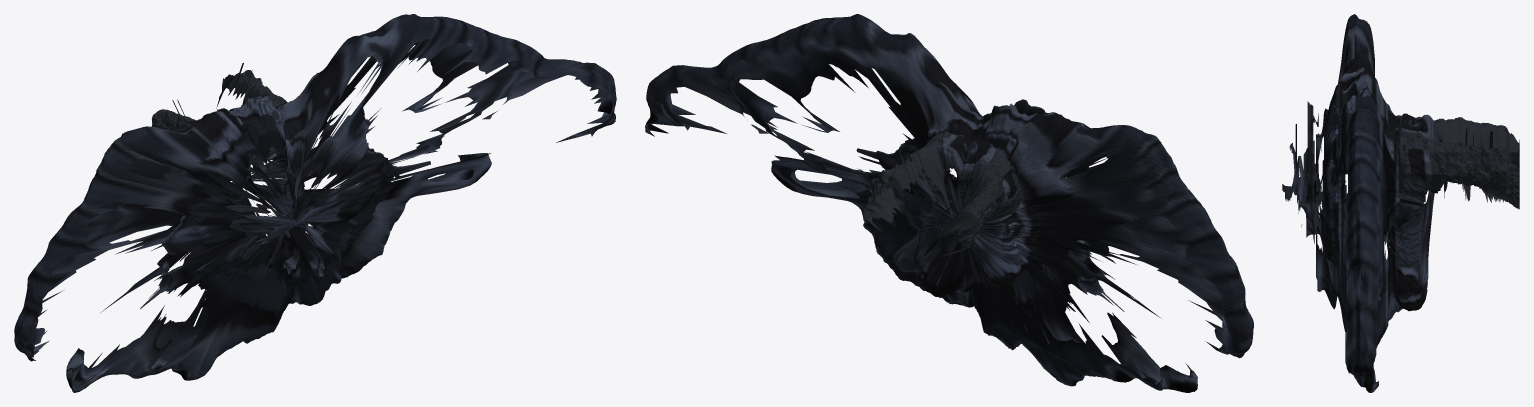
3 views of the same model, side by side, from view 1: azimuth 30°, elevation 25°; view 2: azimuth 150°, elevation 25°; view 3: azimuth 270°, elevation 25° (orthographic). The views are drawn at different scales.
Visible parts, largest first — view 1: geometry_0; view 2: geometry_0; view 3: geometry_0.
Part boxes in pixels (x1=…): geometry_0: x1=14, y1=14, x2=616, y2=392; geometry_0: x1=645, y1=14, x2=1253, y2=392; geometry_0: x1=1282, y1=14, x2=1519, y2=392.
Bounding box in the file's own units: 1.62 × 0.8106 × 0.5196.
Materials: 1 (1 with a texture image).
